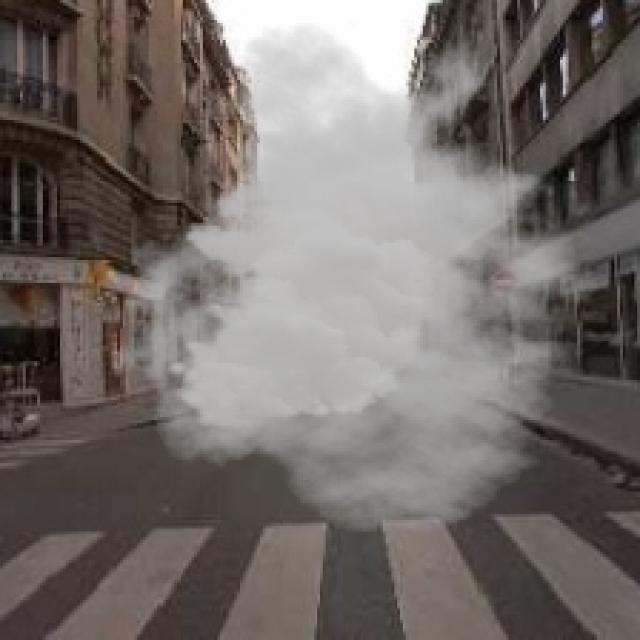smoke: (109, 20, 634, 534)
